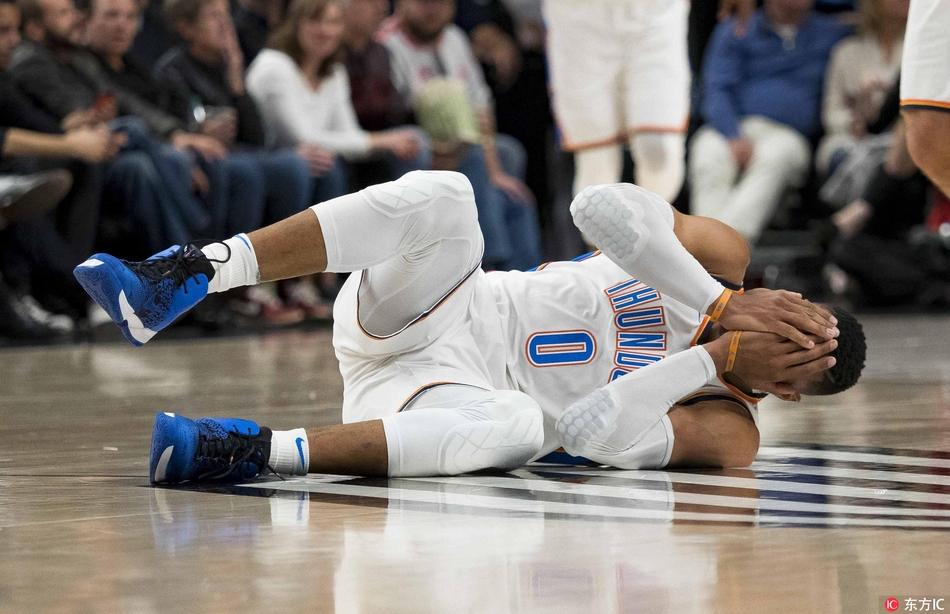down: (68, 160, 880, 498)
